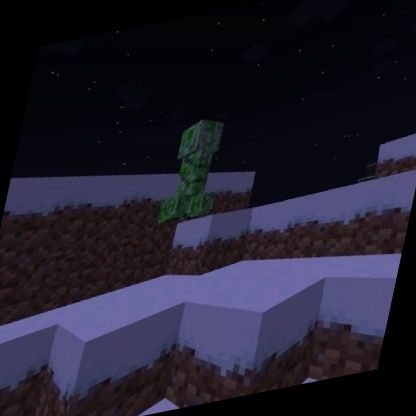creeper: (154, 112, 235, 228)
